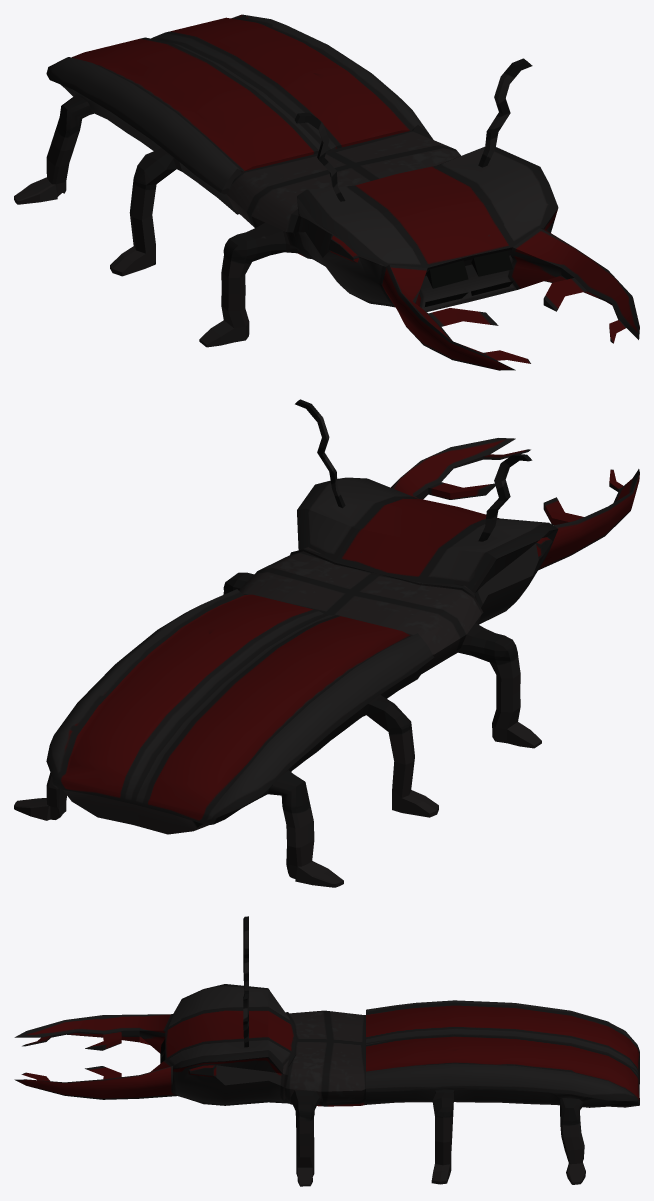
Rendered from Vliegend hert.FBX.
The picture shows the model from 3 angles, top to bottom: view 1: azimuth 30°, elevation 25°; view 2: azimuth 150°, elevation 25°; view 3: azimuth 270°, elevation 25°; orthographic projection. The views are drawn at different scales.
Parts seen in each view (by area): view 1: Box001; view 2: Box001; view 3: Box001.
Part boxes in pixels (x1,y1,x2,y2): Box001: (14, 14, 639, 370); Box001: (14, 399, 639, 887); Box001: (14, 916, 639, 1186).
Size of the model in its own units: 13 by 9.15 by 29.86.
Materials: 1 (1 with a texture image).
